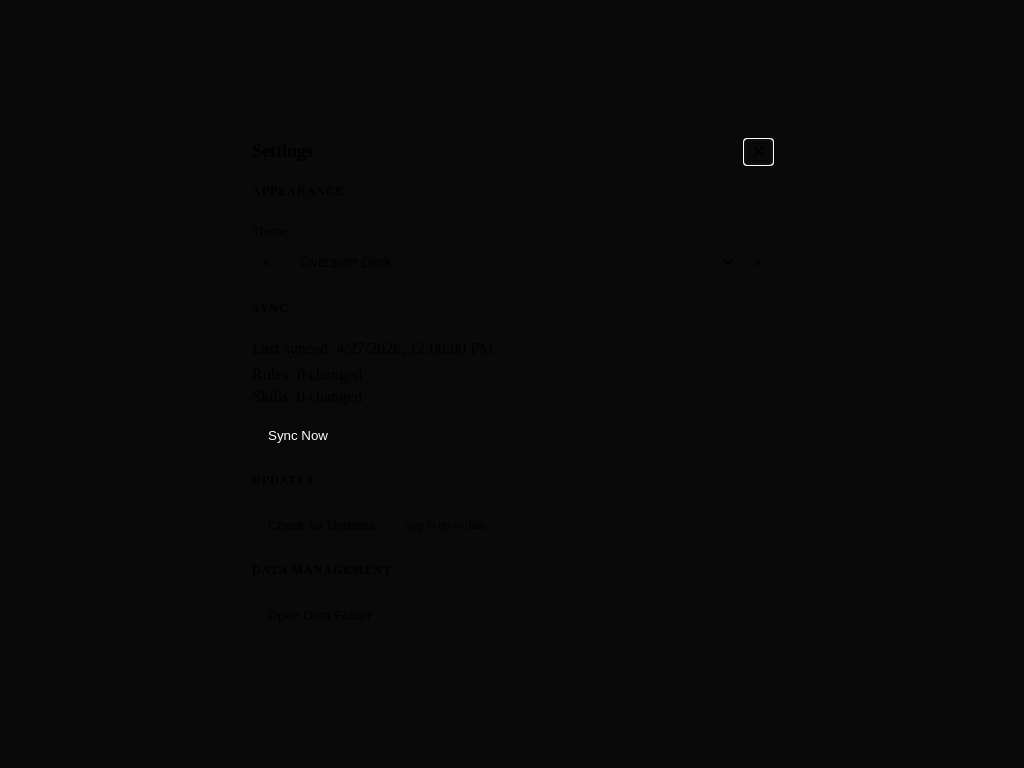
Test case: shows error output when sync fails
Click the button "Sync Now" at [298, 435], box left=252, top=422, right=344, bottom=448
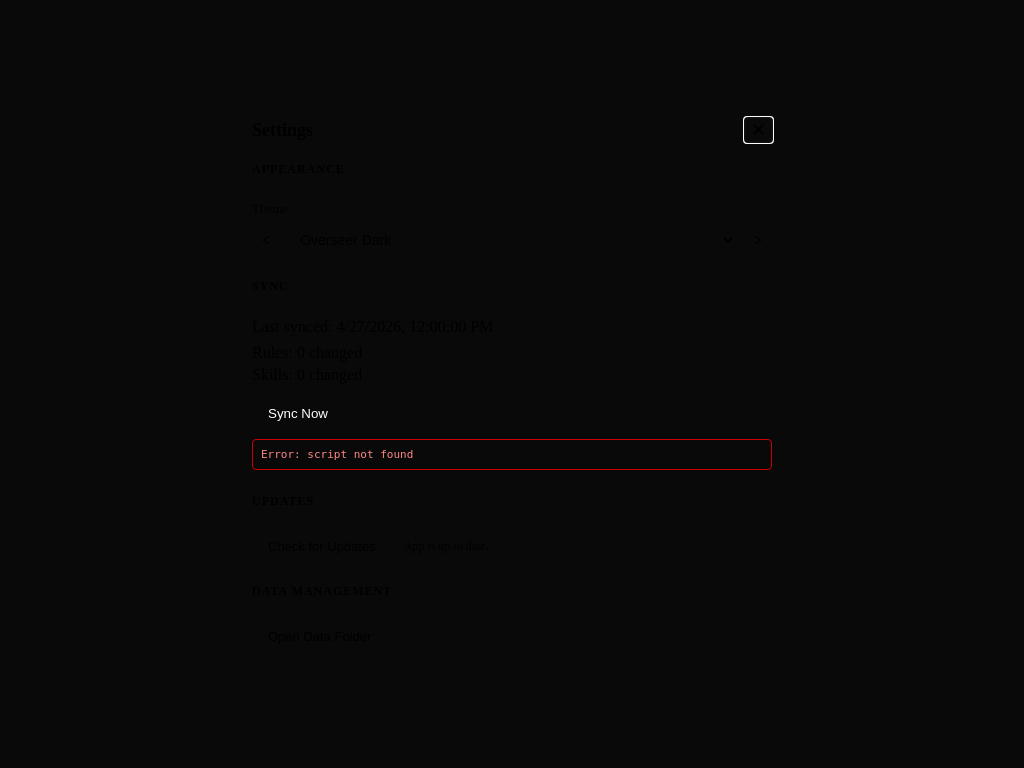
Expected: the text "Error: script not found" is shown, left=252, top=439, right=772, bottom=470
